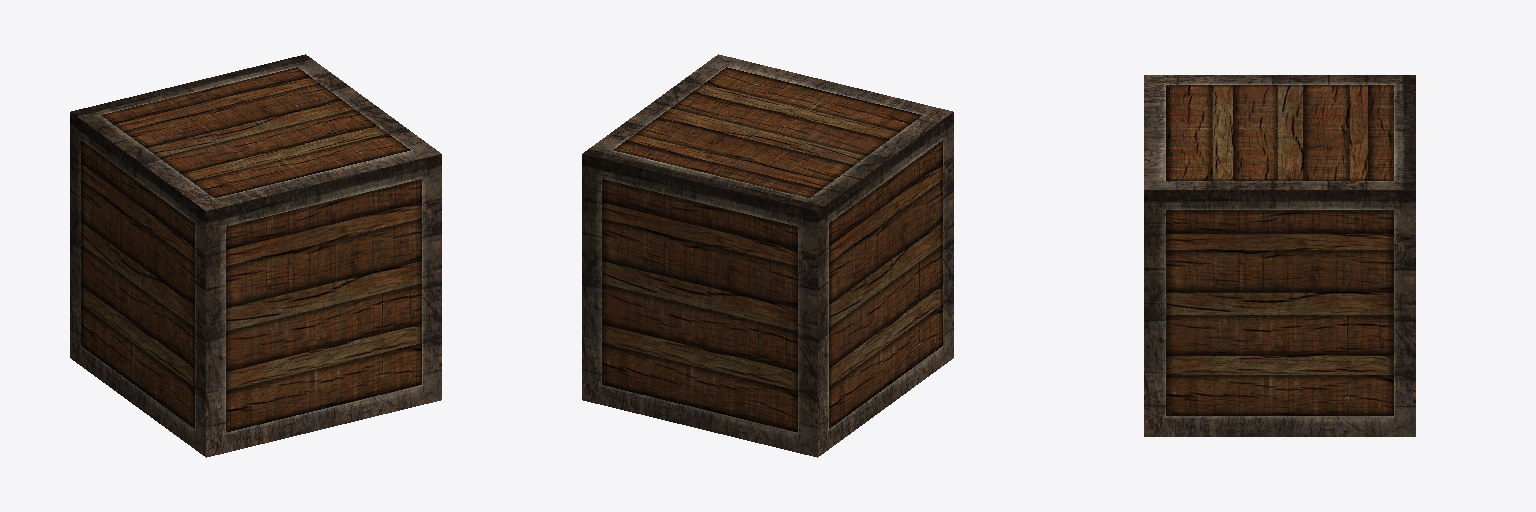
3 renders of one model, left to right at view 1: azimuth 30°, elevation 25°; view 2: azimuth 150°, elevation 25°; view 3: azimuth 270°, elevation 25°, orthographic.
Parts seen in each view (by area): view 1: front cube, left cube, top cube; view 2: back cube, left cube, top cube; view 3: right cube, top cube.
Part boxes in pixels (left/top/right/bottom): front cube: left=206, top=154, right=441, bottom=457; left cube: left=70, top=112, right=205, bottom=456; top cube: left=71, top=54, right=440, bottom=210; back cube: left=582, top=154, right=817, bottom=457; left cube: left=818, top=112, right=953, bottom=456; top cube: left=583, top=54, right=952, bottom=210; right cube: left=1144, top=190, right=1415, bottom=436; top cube: left=1144, top=75, right=1415, bottom=189.
Size of the model in its own units: 2 by 2 by 2.
1 materials, 1 textured.